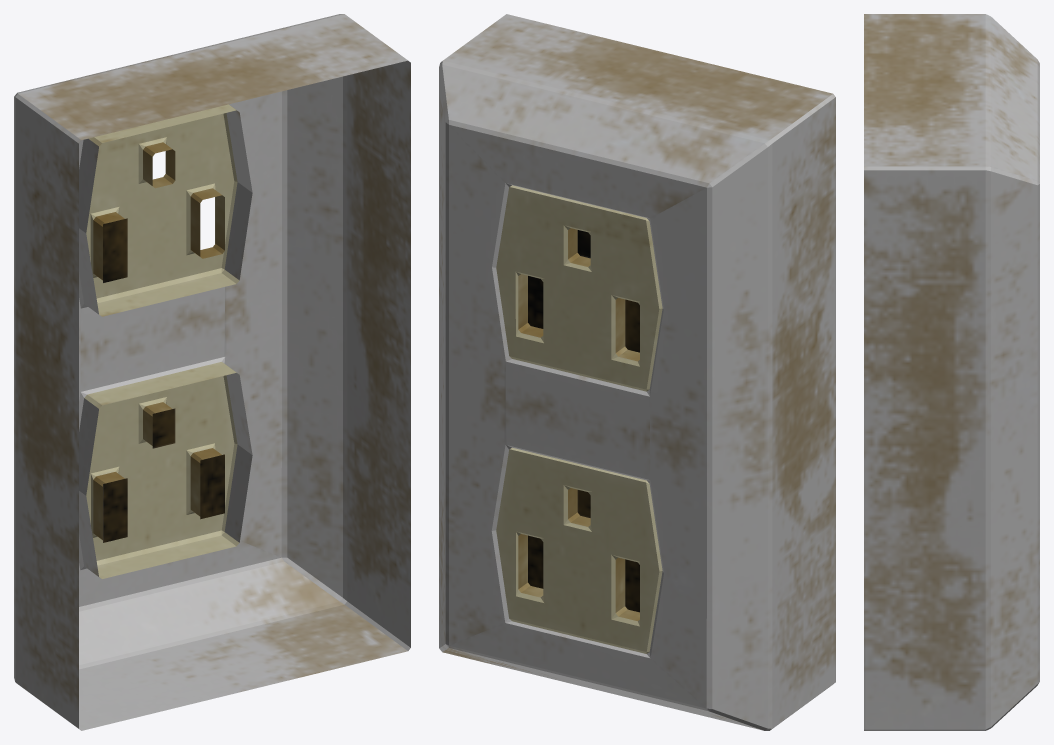
File: Prop_Electrical_Outlet.fbx
The picture shows the model from 3 angles, left to right: view 1: azimuth 30°, elevation 25°; view 2: azimuth 150°, elevation 25°; view 3: azimuth 270°, elevation 25°; orthographic projection. The views are drawn at different scales.
Parts seen in each view (by area): view 1: Prop_Electrical_Outlet; view 2: Prop_Electrical_Outlet; view 3: Prop_Electrical_Outlet.
Part boxes in pixels (bbox=[...]): Prop_Electrical_Outlet: bbox=[14, 14, 410, 730]; Prop_Electrical_Outlet: bbox=[439, 14, 835, 730]; Prop_Electrical_Outlet: bbox=[864, 14, 1039, 730].
Size of the model in its own units: 4.03 by 6.85 by 1.93.
